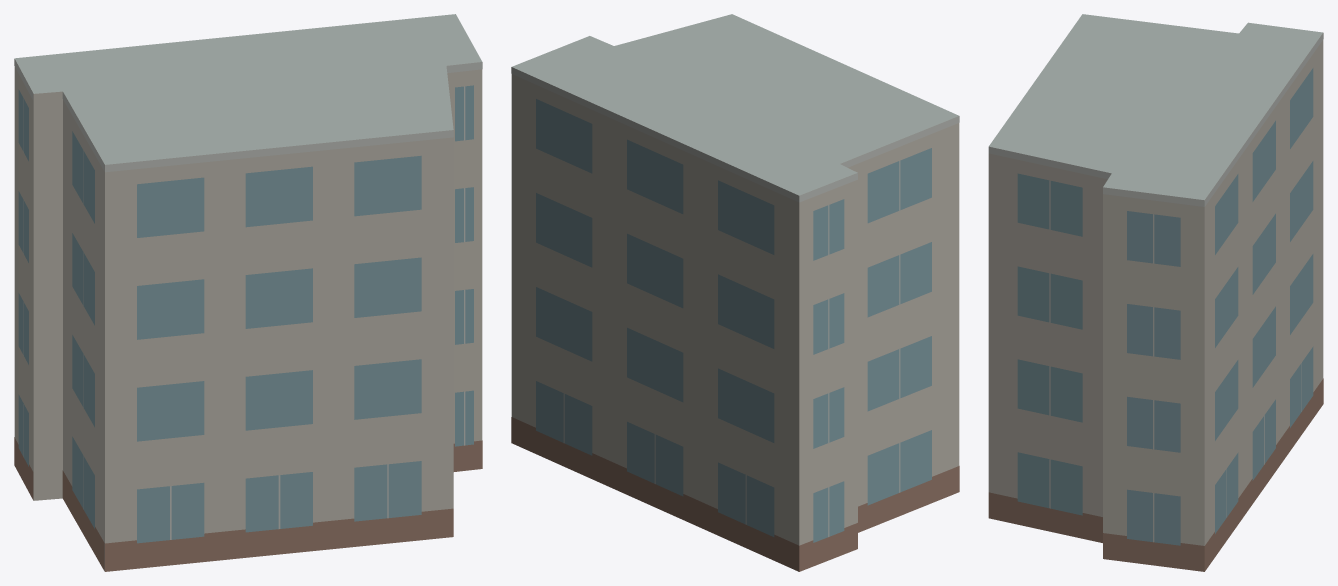
File: survey-upis-32557138.glb
3 views of the same model, side by side, from view 1: azimuth 30°, elevation 25°; view 2: azimuth 150°, elevation 25°; view 3: azimuth 270°, elevation 25° (orthographic). The views are drawn at different scales.
Visible parts, largest first — view 1: survey-upis-32557138.tmp; view 2: survey-upis-32557138.tmp; view 3: survey-upis-32557138.tmp.
Boxes of the visible parts, x1,y1,x2,y2 form: survey-upis-32557138.tmp: [14, 14, 482, 571]; survey-upis-32557138.tmp: [511, 14, 959, 571]; survey-upis-32557138.tmp: [988, 14, 1323, 571].
Bounding box in the file's own units: 14.35 × 13.35 × 10.91.
